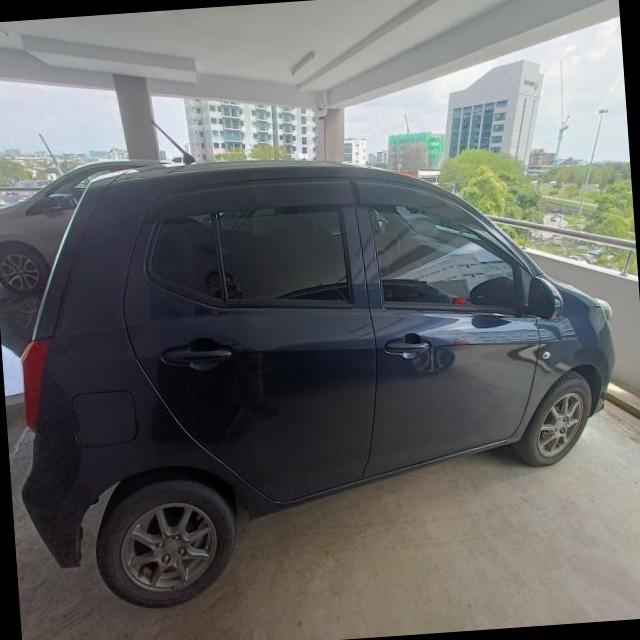PeroduaAxia: (0, 128, 631, 616)
